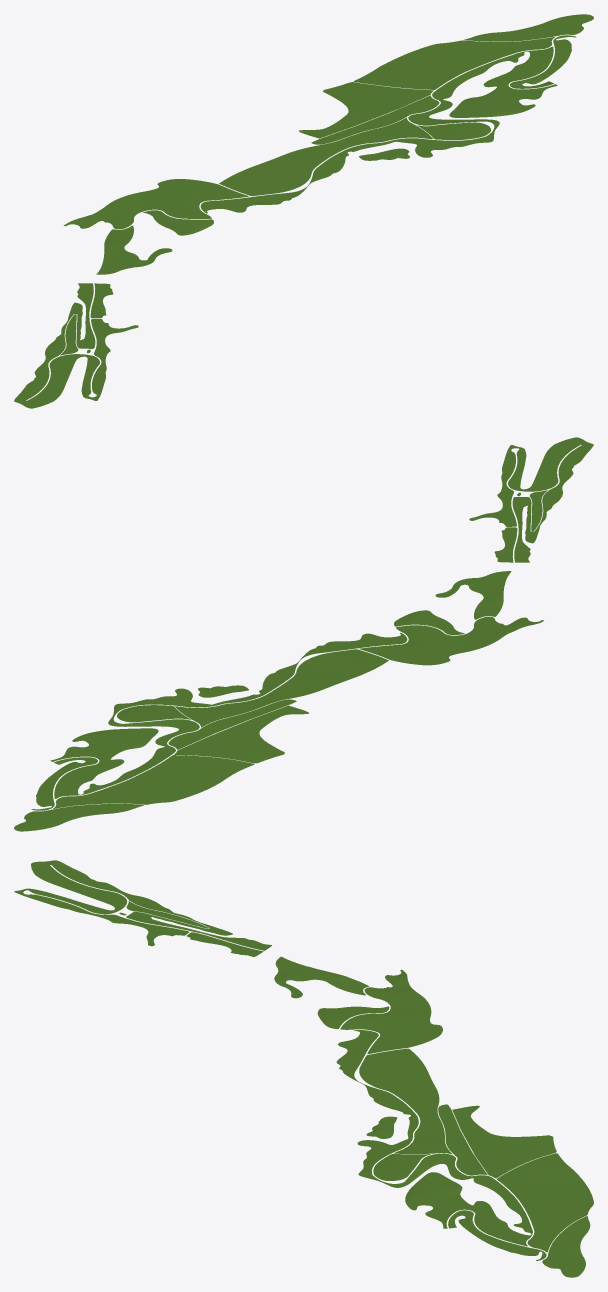
Rendered from 15_Eco_Park_00.glb.
3 renders of one model, top to bottom at view 1: azimuth 30°, elevation 25°; view 2: azimuth 210°, elevation 25°; view 3: azimuth 270°, elevation 25°, orthographic. The views are drawn at different scales.
Visible parts, largest first — view 1: 15_Eco_Park_00; view 2: 15_Eco_Park_00; view 3: 15_Eco_Park_00.
Boxes of the visible parts, x1,y1,x2,y2 form: 15_Eco_Park_00: (14, 14, 593, 408); 15_Eco_Park_00: (14, 437, 593, 831); 15_Eco_Park_00: (14, 860, 593, 1277).
Size of the model in its own units: 2041 by 3.12 by 1199.
